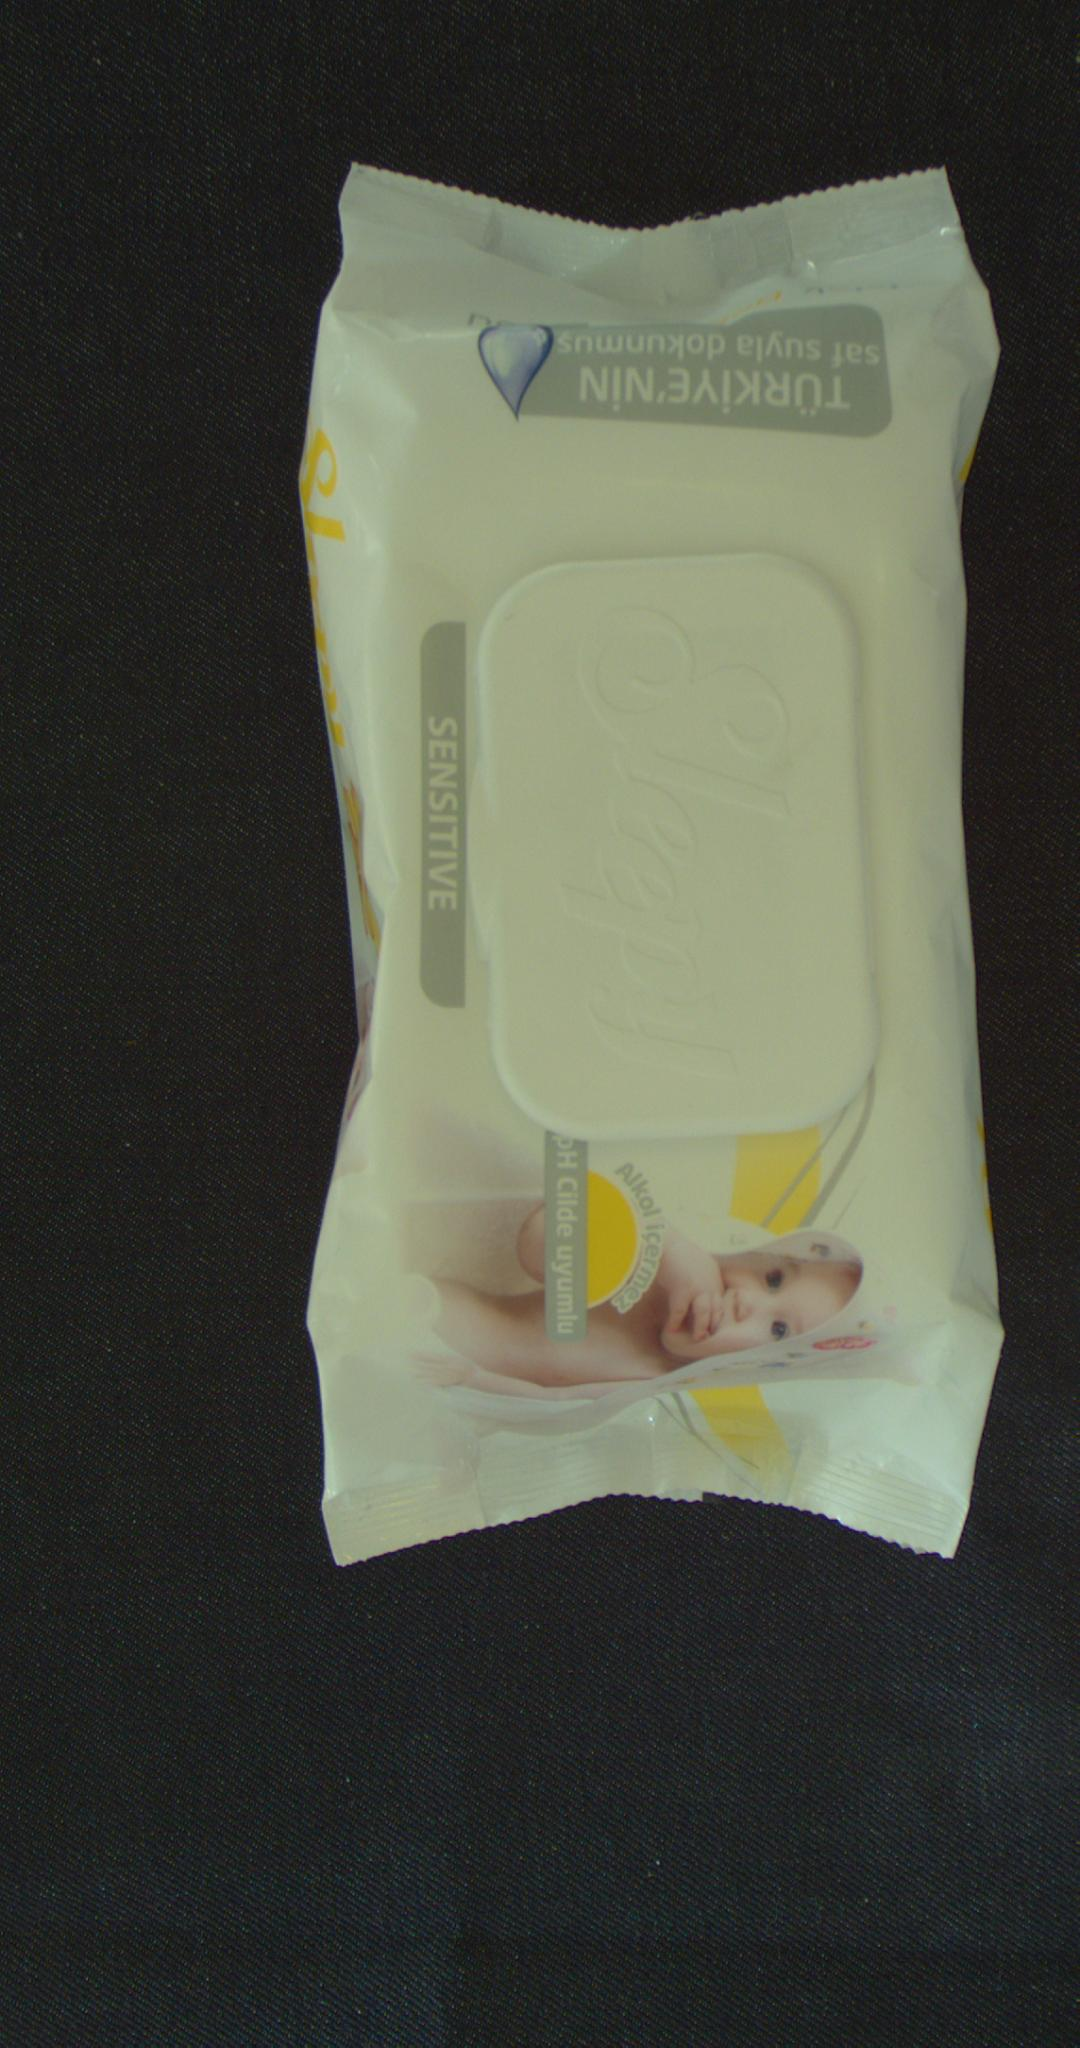kapak: (465, 540, 877, 1142)
